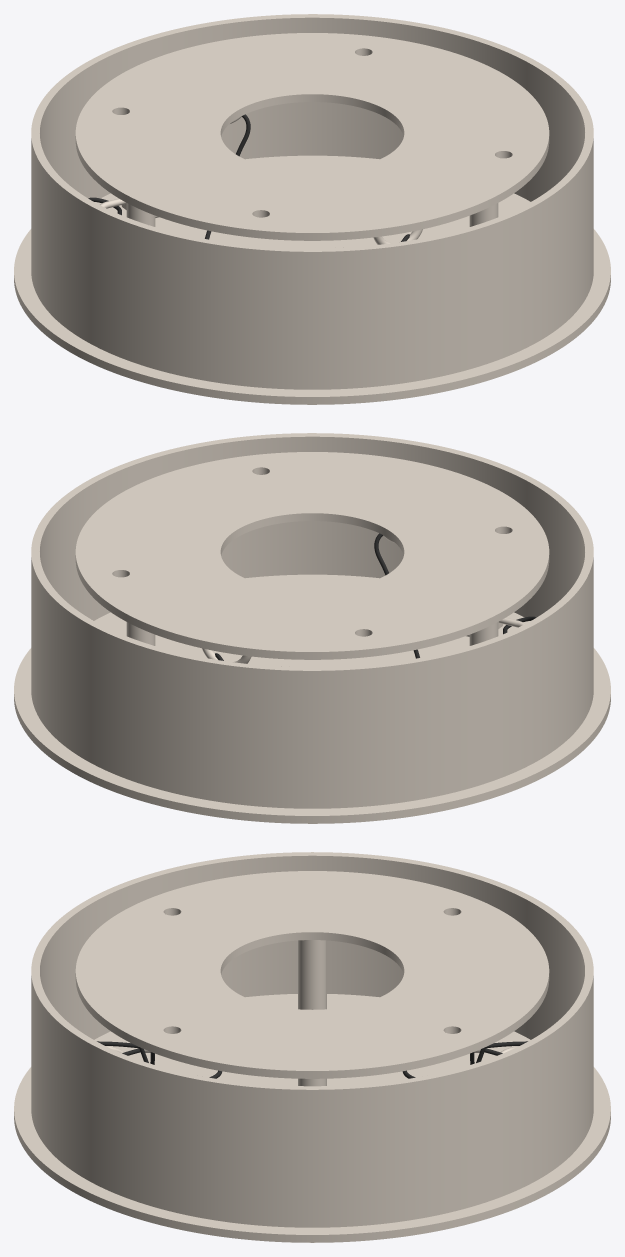
The model's file is SkLO_Round_Canopy_8_MCR08.glb.
3 views of the same model, one above another, from view 1: azimuth 30°, elevation 25°; view 2: azimuth 150°, elevation 25°; view 3: azimuth 270°, elevation 25° (orthographic).
Parts seen in each view (by area): view 1: MCR08 CANOPY, MCR08 MOUNTING PLATE.002; view 2: MCR08 CANOPY, MCR08 MOUNTING PLATE.002; view 3: MCR08 CANOPY, MCR08 MOUNTING PLATE.002, MCR08 MOUNTING PLATE.004.
Boxes of the visible parts, x1=… form: MCR08 CANOPY: x1=14, y1=14, x2=610, y2=404; MCR08 MOUNTING PLATE.002: x1=75, y1=33, x2=549, y2=240; MCR08 CANOPY: x1=14, y1=433, x2=610, y2=823; MCR08 MOUNTING PLATE.002: x1=75, y1=452, x2=549, y2=659; MCR08 CANOPY: x1=14, y1=852, x2=610, y2=1242; MCR08 MOUNTING PLATE.002: x1=75, y1=871, x2=549, y2=1078; MCR08 MOUNTING PLATE.004: x1=298, y1=940, x2=326, y2=1009.
Size of the model in its own units: 208 by 56.3 by 208.
